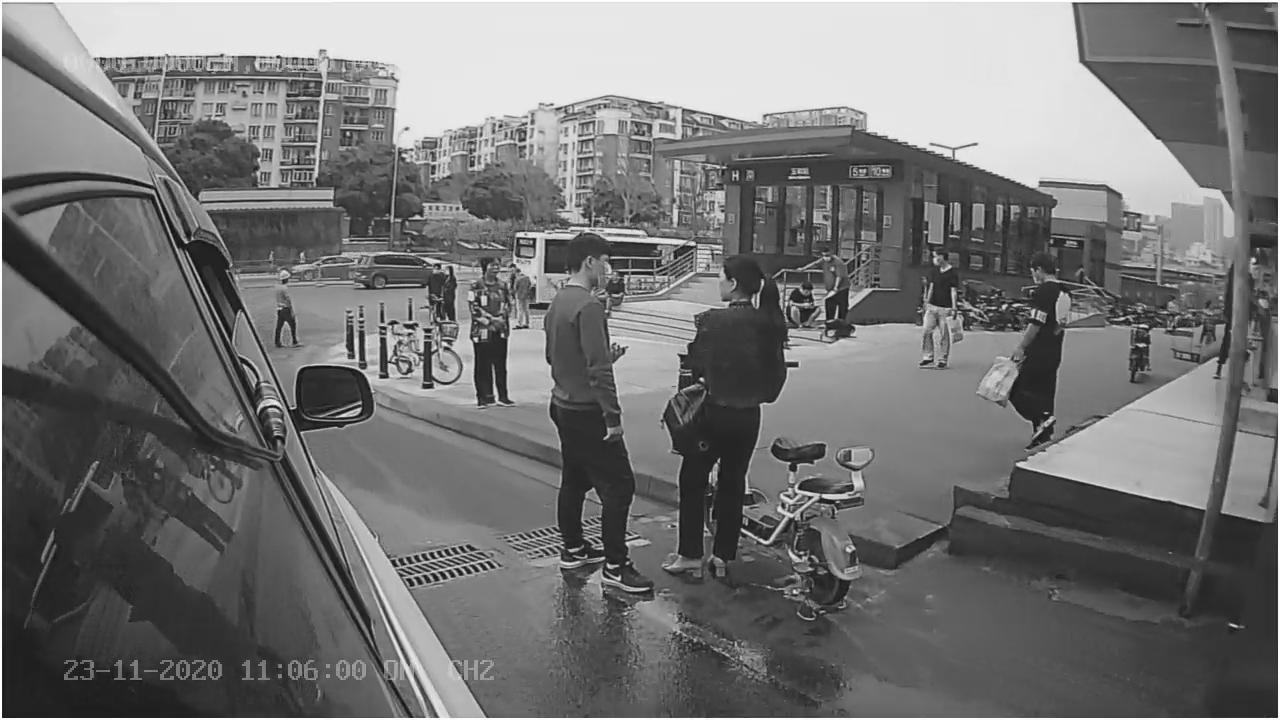person: (529, 226, 668, 599)
